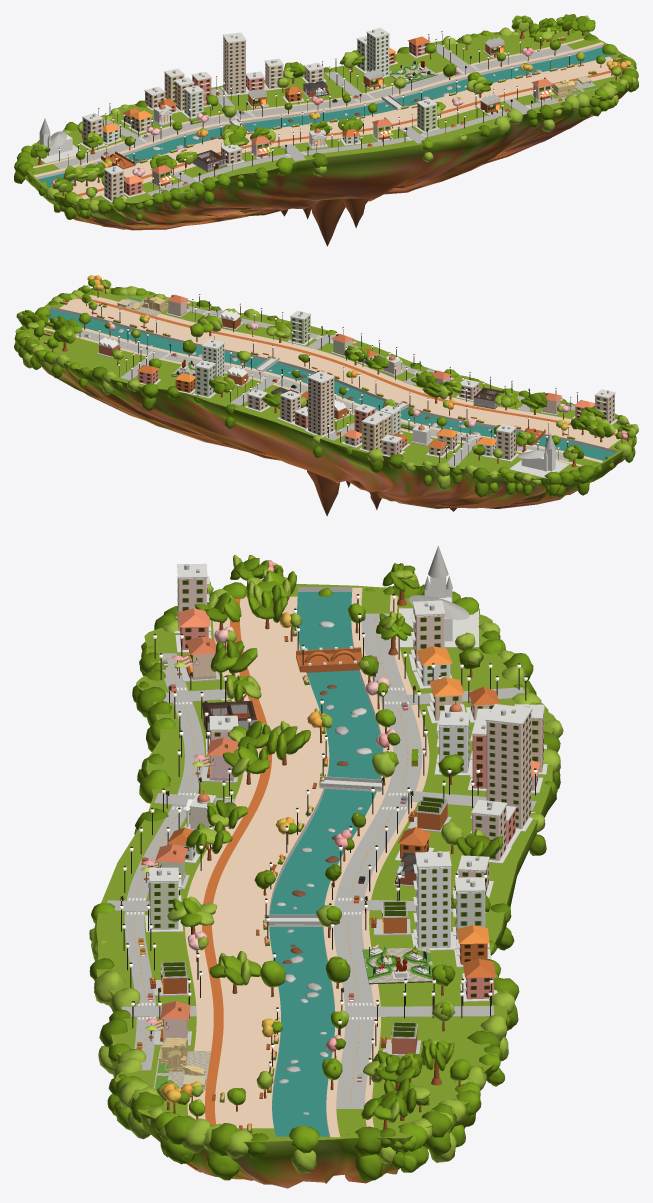
The model's file is isla_bulevar-completa.glb.
3 renders of one model, top to bottom at view 1: azimuth 30°, elevation 25°; view 2: azimuth 150°, elevation 25°; view 3: azimuth 270°, elevation 25°, orthographic. The views are drawn at different scales.
Visible parts, largest first — view 1: isla_acantilado_001, isla_cesped_003, bulevar_peatonal_006, arboles_copas_01, rio_agua_005, arboles_copas_04, arboles_copas_03, arboles_copas_02, calle_av1norte_010, calle_carrera3_009, calles_transversales, anden_norte_rio_007 (+17 smaller); view 2: isla_acantilado_001, isla_cesped_003, bulevar_peatonal_006, arboles_copas_01, arboles_copas_03, arboles_copas_02, arboles_copas_04, rio_agua_005, calle_av1norte_010, calles_transversales, edificios_tower_001, ciclorruta_008 (+16 smaller); view 3: isla_cesped_003, bulevar_peatonal_006, rio_agua_005, arboles_copas_01, arboles_copas_03, arboles_copas_04, arboles_copas_02, calle_av1norte_010, isla_acantilado_001, calle_carrera3_009, calles_transversales, edificios_tower_001 (+16 smaller).
Boxes of the visible parts, left/top/right/bottom form: isla_acantilado_001: left=24, top=81, right=632, bottom=230; isla_cesped_003: left=26, top=31, right=628, bottom=204; bulevar_peatonal_006: left=71, top=56, right=621, bottom=199; arboles_copas_01: left=32, top=15, right=636, bottom=213; rio_agua_005: left=37, top=47, right=614, bottom=186; arboles_copas_04: left=17, top=15, right=638, bottom=221; arboles_copas_03: left=21, top=15, right=633, bottom=218; arboles_copas_02: left=14, top=14, right=627, bottom=218; calle_av1norte_010: left=53, top=44, right=573, bottom=168; calle_carrera3_009: left=147, top=94, right=578, bottom=196; calles_transversales: left=103, top=44, right=529, bottom=184; anden_norte_rio_007: left=33, top=42, right=603, bottom=177; isla_acantilado_001: left=15, top=332, right=634, bottom=508; isla_cesped_003: left=15, top=287, right=632, bottom=478; bulevar_peatonal_006: left=59, top=295, right=620, bottom=448; arboles_copas_01: left=16, top=279, right=638, bottom=489; arboles_copas_03: left=14, top=279, right=636, bottom=493; arboles_copas_02: left=20, top=287, right=631, bottom=497; arboles_copas_04: left=18, top=279, right=635, bottom=496; rio_agua_005: left=47, top=309, right=615, bottom=461; calle_av1norte_010: left=75, top=330, right=568, bottom=461; calles_transversales: left=120, top=310, right=531, bottom=467; edificios_tower_001: left=308, top=378, right=334, bottom=435; ciclorruta_008: left=77, top=297, right=615, bottom=435; isla_cesped_003: left=96, top=584, right=556, bottom=1142; bulevar_peatonal_006: left=185, top=596, right=329, bottom=1128; rio_agua_005: left=269, top=592, right=382, bottom=1136; arboles_copas_01: left=89, top=554, right=563, bottom=1174; arboles_copas_03: left=91, top=571, right=510, bottom=1172; arboles_copas_04: left=108, top=558, right=557, bottom=1181; arboles_copas_02: left=89, top=560, right=560, bottom=1169; calle_av1norte_010: left=333, top=613, right=422, bottom=1108; isla_acantilado_001: left=91, top=662, right=556, bottom=1188; calle_carrera3_009: left=124, top=653, right=204, bottom=1070; calles_transversales: left=107, top=687, right=536, bottom=1016; edificios_tower_001: left=486, top=712, right=531, bottom=828.
Bounding box in the file's own units: 46.74 × 14.36 × 16.58.
159 materials, 12 textured.
